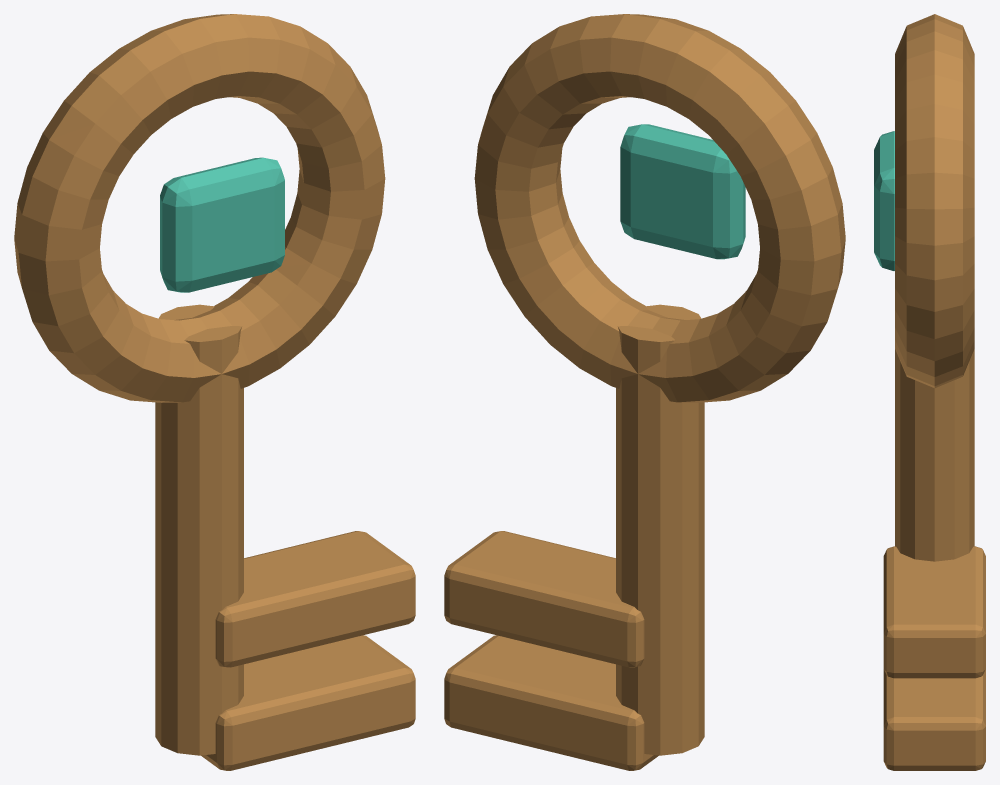
Rendered from Item_shortcut_key.fbx.
The picture shows the model from 3 angles, left to right: view 1: azimuth 30°, elevation 25°; view 2: azimuth 150°, elevation 25°; view 3: azimuth 270°, elevation 25°; orthographic projection. The views are drawn at different scales.
Visible parts, largest first — view 1: Item_shortcut_key.Mesh; view 2: Item_shortcut_key.Mesh; view 3: Item_shortcut_key.Mesh.
Part boxes in pixels (x1,y1,x2,y2): Item_shortcut_key.Mesh: (14, 14, 415, 770); Item_shortcut_key.Mesh: (444, 14, 845, 770); Item_shortcut_key.Mesh: (874, 14, 985, 770).
Size of the model in its own units: 34 by 64.1 by 9.85.
